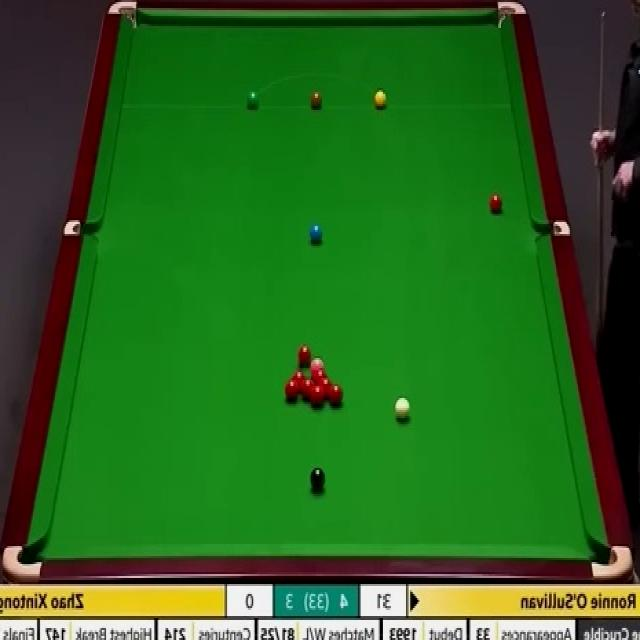pocket: (2, 543, 44, 583), (591, 543, 633, 580), (495, 0, 531, 34), (110, 0, 141, 32), (64, 218, 101, 238), (535, 220, 573, 235)
